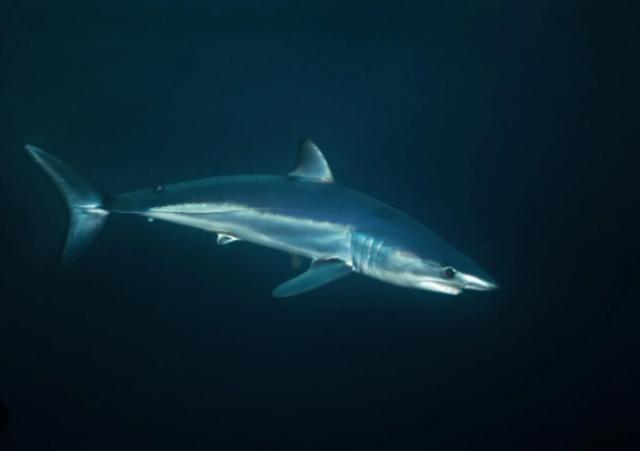Mulut: (403, 269, 473, 307)
Sirip Anal: (130, 173, 172, 233)
Sirip Dada: (262, 248, 358, 314)
Sirip Ekor: (16, 129, 120, 291)
Sirip Perut: (208, 218, 248, 262)
Sirip Punggung: (280, 131, 344, 191)
